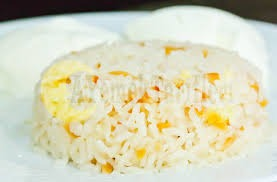pirinc_pilavi: (33, 41, 267, 173)
